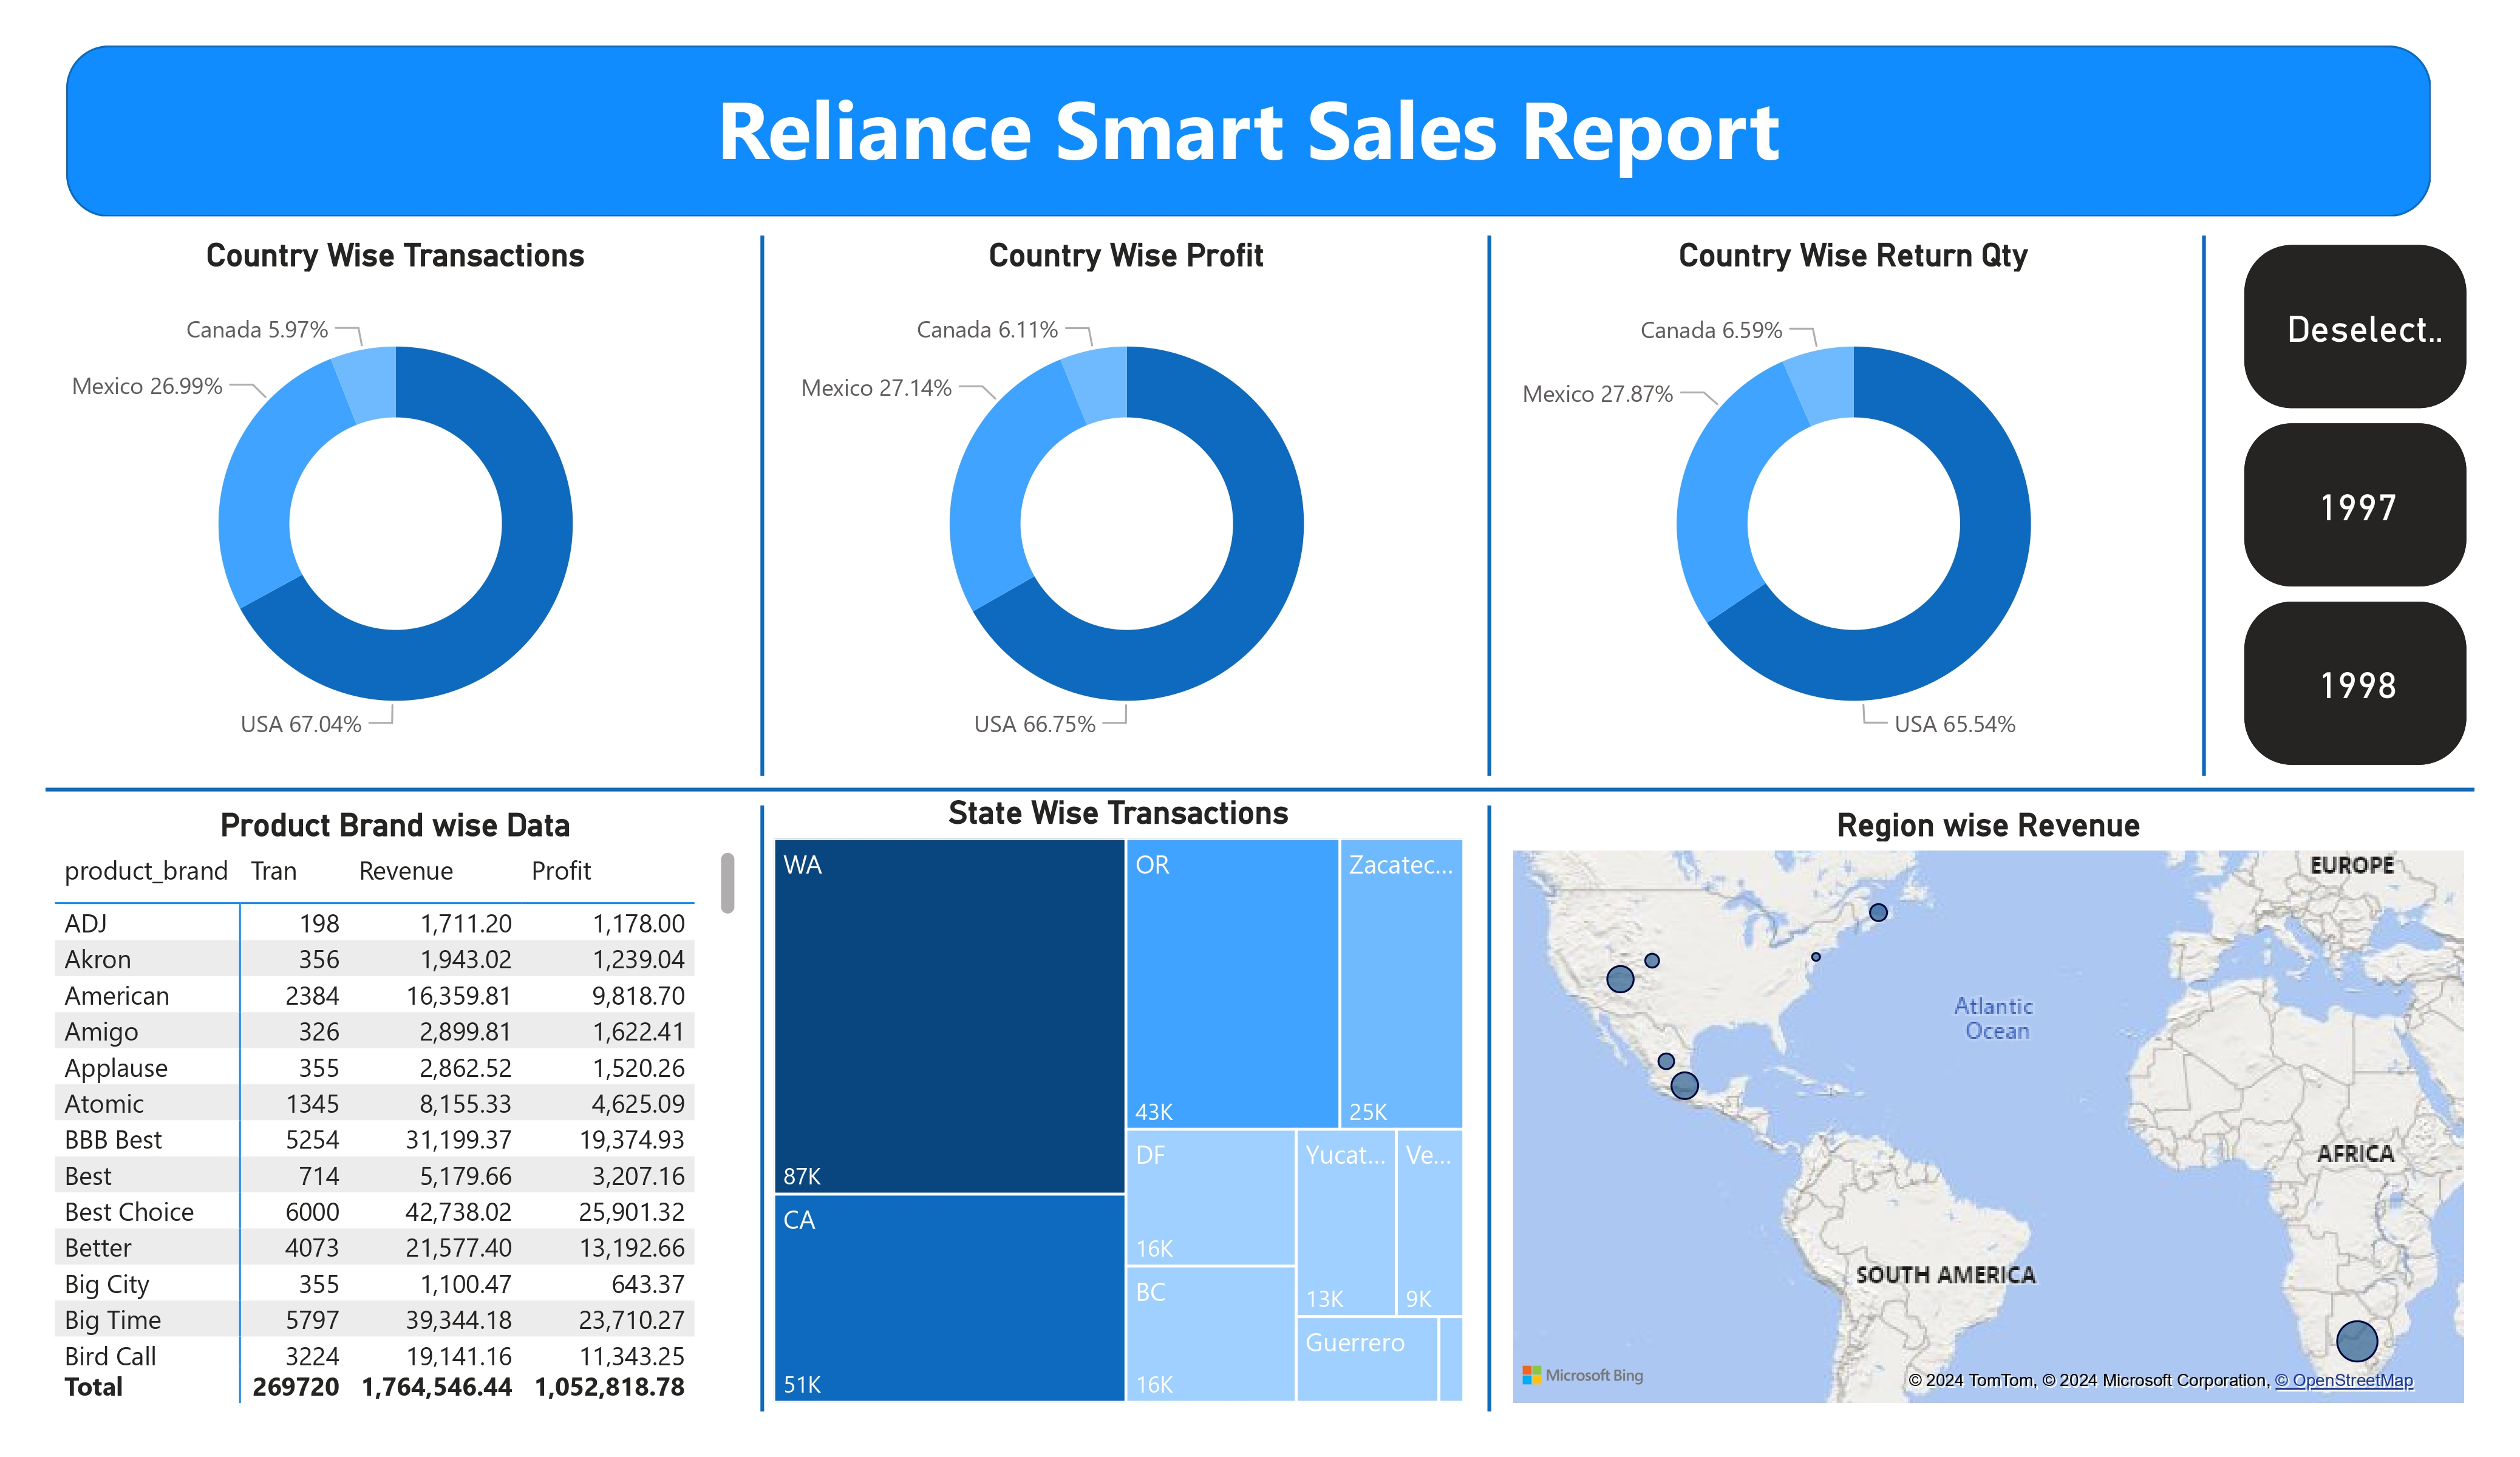

What the dashboard file says about the page in this screenshot:
{"tool":"powerbi","page":{"name":"Report","canvas":[1280,720],"ordinal":0},"visuals":[{"type":"shape","box":[10.7,0,1246.3,90.3],"z":0},{"type":"textbox","box":[10.7,9.2,1246.3,72],"z":1000},{"type":"donutChart","title":"Country Wise Transactions","fields":{"Category":["d_Stores.store_country"],"Y":["Measure Table.M_Total_Transactions"]},"box":[0,101.1,369,284.8],"z":2000},{"type":"donutChart","title":"Country Wise Profit","fields":{"Category":["d_Stores.store_country"],"Y":["Measure Table.M_Total_Profit"]},"box":[384.3,101.1,369,284.8],"z":3000},{"type":"shape","box":[369,101.1,15.3,284.8],"z":4000},{"type":"shape","box":[753.3,101.1,15.3,284.8],"z":5000},{"type":"donutChart","title":"Country Wise Return Qty","fields":{"Category":["d_Stores.store_country"],"Y":["Measure Table.M_Total_Returns"]},"box":[768.6,101.1,369,284.8],"z":6000},{"type":"shape","box":[1130,101.1,15.3,284.8],"z":7000},{"type":"advancedSlicerVisual","fields":{"Values":["d_Calendar.Year"]},"box":[1152.9,101.1,127.1,284.8],"z":8000},{"type":"shape","box":[0,385.8,1280,13.8],"z":9000},{"type":"pivotTable","title":"Product Brand wise Data","fields":{"Rows":["d_Products.product_brand"],"Values":["Measure Table.M_Total_Transactions","Measure Table.M_Total_Revenue","Measure Table.M_Total_Profit"]},"box":[0,399.6,369,320],"z":10000},{"type":"shape","box":[369,399.6,15.3,320],"z":11000},{"type":"treemap","title":"State Wise Transactions","fields":{"Group":["d_Stores.store_state"],"Values":["Measure Table.M_Total_Transactions"]},"box":[379.7,393.5,373.6,326.1],"z":12000},{"type":"shape","box":[753.3,399.6,15.3,320],"z":13000},{"type":"map","title":"Region wise Revenue","fields":{"Category":["d_Regions.sales_region"],"Size":["Measure Table.M_Total_Revenue"]},"box":[768.6,399.6,511.4,320],"z":14000}]}

Visuals, with their boxes in screenshot pixels (x1, y1, x2, y2):
shape: 66, 46, 2431, 217
textbox: 66, 63, 2431, 200
"Country Wise Transactions" donutChart: 46, 237, 746, 778
"Country Wise Profit" donutChart: 775, 237, 1475, 778
shape: 746, 237, 775, 778
shape: 1475, 237, 1504, 778
"Country Wise Return Qty" donutChart: 1504, 237, 2204, 778
shape: 2190, 237, 2219, 778
advancedSlicerVisual - d_Calendar.Year: 2233, 237, 2474, 778
shape: 46, 778, 2474, 804
"Product Brand wise Data" pivotTable: 46, 804, 746, 1411
shape: 746, 804, 775, 1411
"State Wise Transactions" treemap: 766, 792, 1475, 1411
shape: 1475, 804, 1504, 1411
"Region wise Revenue" map: 1504, 804, 2474, 1411
